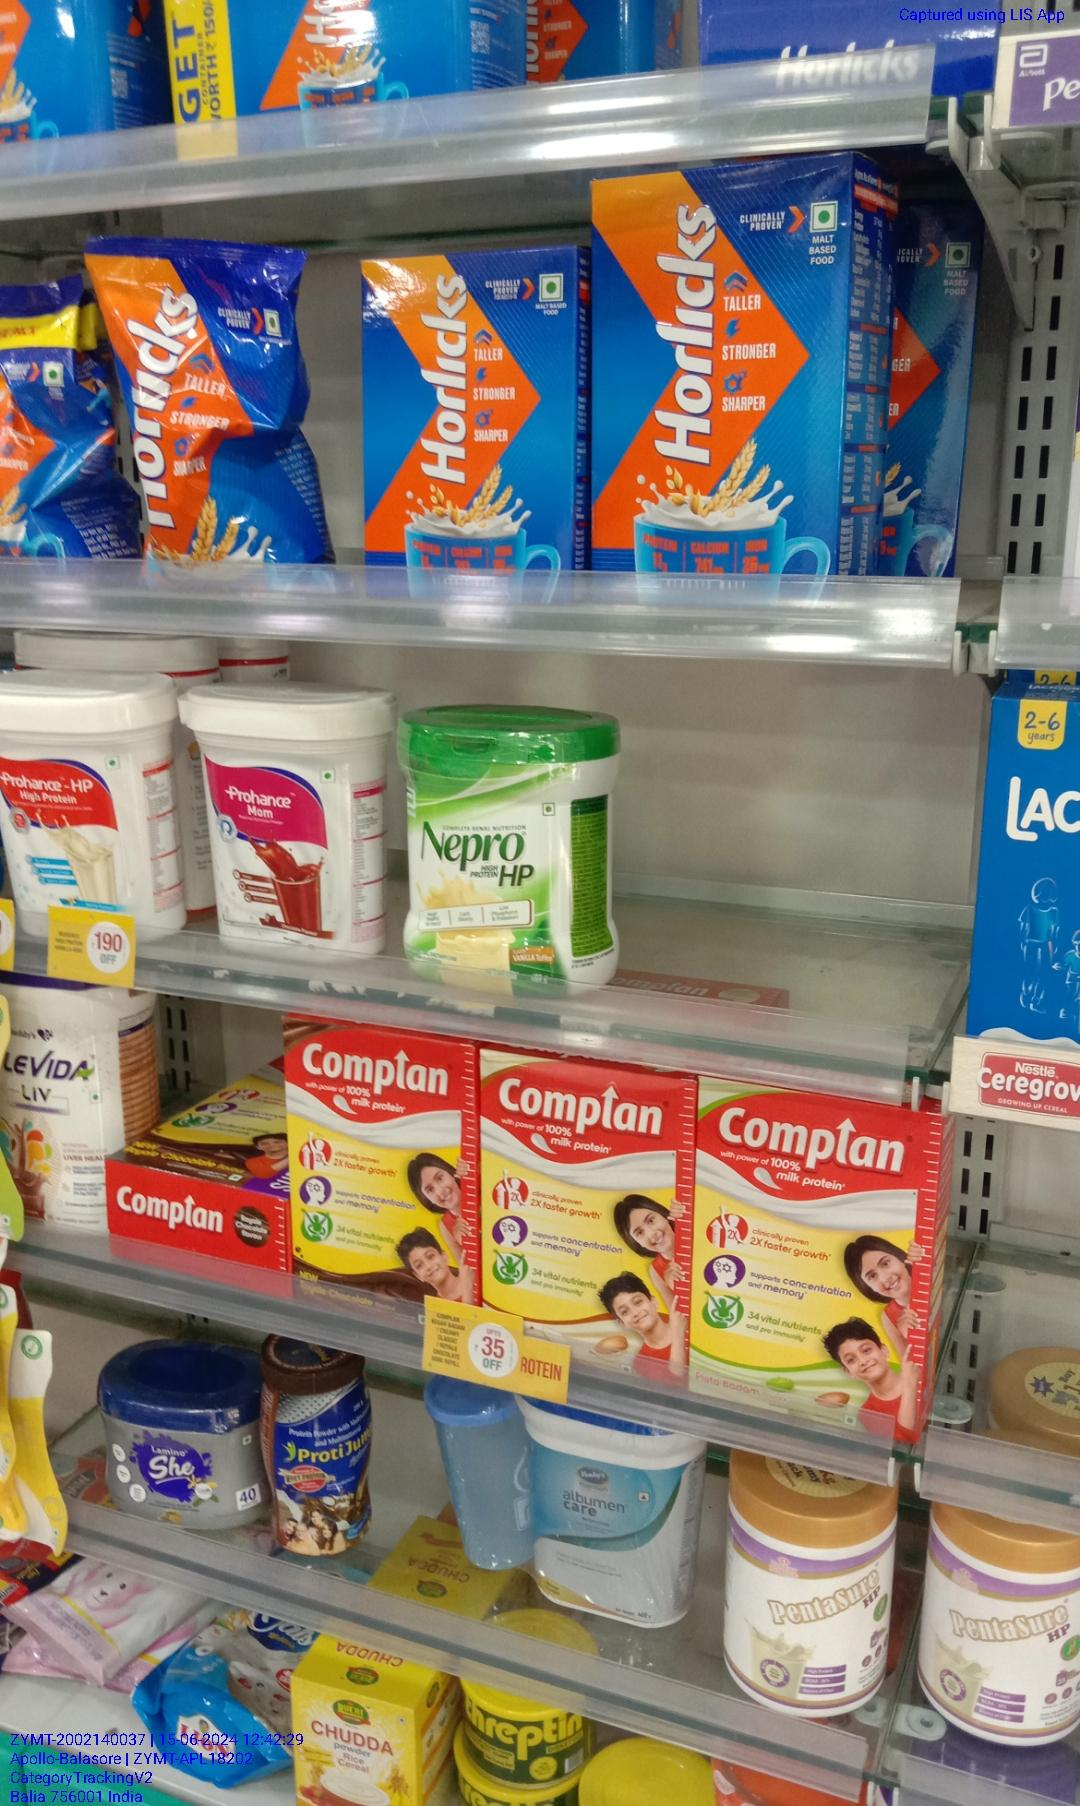COMPLAN_CHOCOLATE_500_GMS_PACK: (288, 1022, 472, 1288)
COMPLAN_KESAR_BADAM_500_GMS_PACK: (482, 1053, 688, 1347)
COMPLAN_PISTA_BADAM_500_GMS_PACK: (702, 1089, 923, 1429)
HORLICK_CLASSIC_MALT_500_G_PACK: (589, 174, 849, 618)
